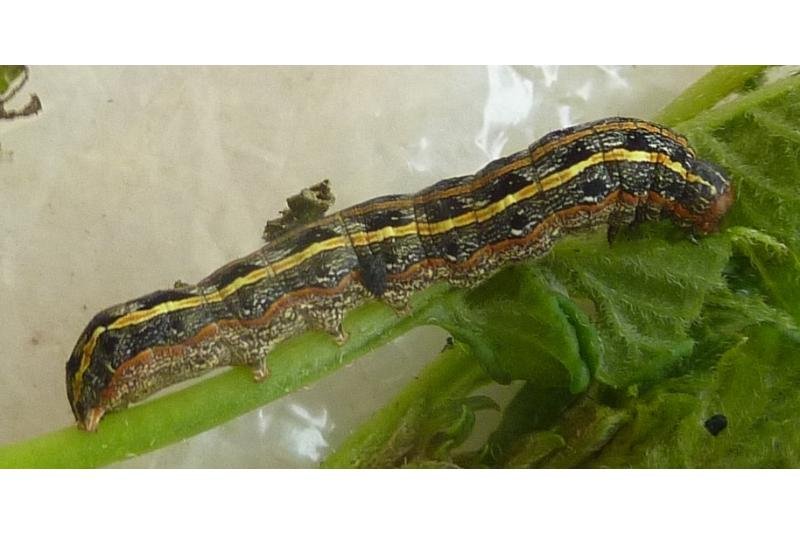fall-armyworm: (66, 118, 737, 435)
